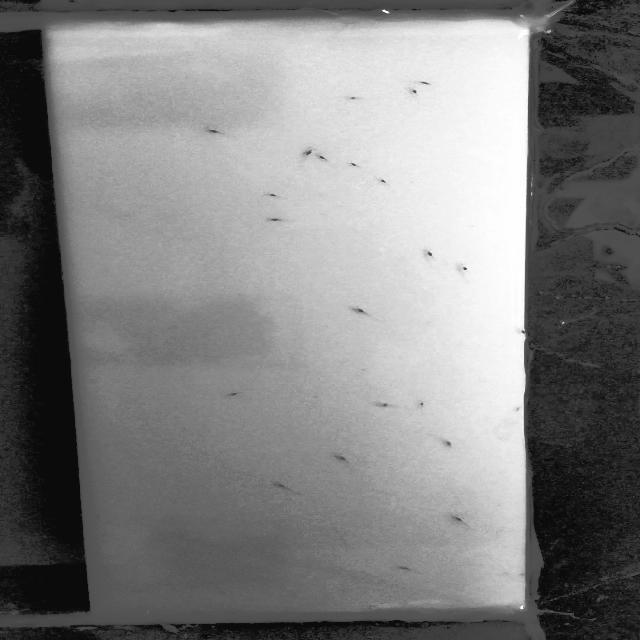shrimp: (350, 304, 376, 319), (347, 90, 370, 105), (228, 388, 249, 402), (396, 562, 417, 576), (449, 514, 471, 527), (436, 438, 458, 450), (456, 262, 472, 277), (263, 192, 286, 202), (406, 87, 428, 97), (375, 400, 394, 411), (372, 173, 387, 186), (414, 399, 430, 411), (272, 480, 289, 491), (298, 150, 316, 160), (207, 127, 224, 137), (267, 214, 285, 222), (336, 452, 349, 463), (417, 78, 429, 89), (316, 153, 329, 162), (346, 162, 359, 170), (424, 248, 433, 258)
